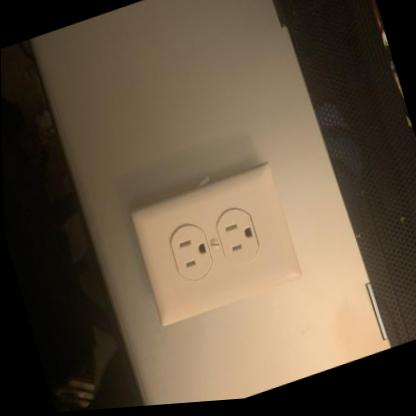OUTLET: (125, 156, 305, 330)
